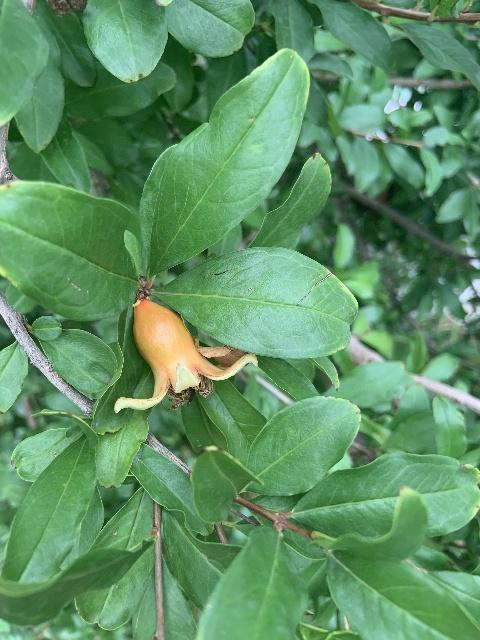early-fruit: (114, 298, 258, 413)
